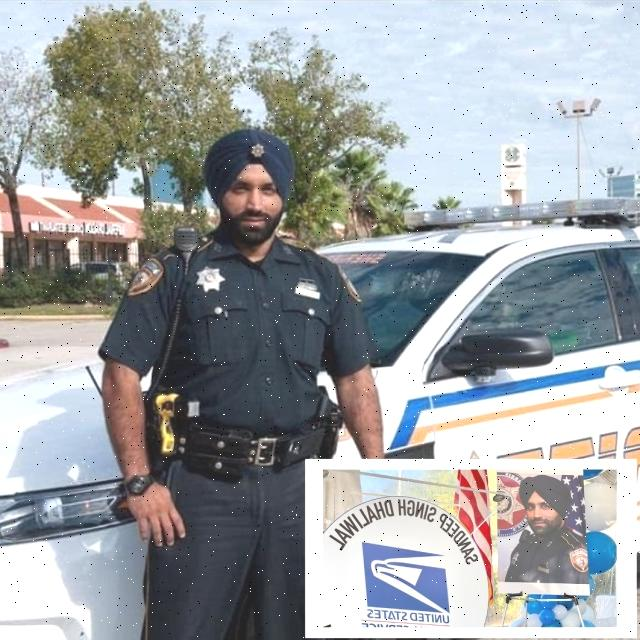police: (66, 110, 371, 640)
